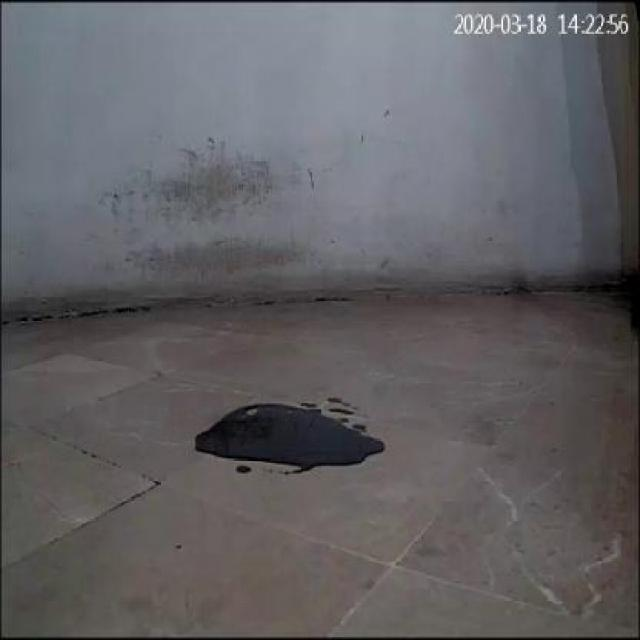spill: (190, 396, 388, 470)
